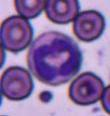N: (28, 31, 83, 84)
